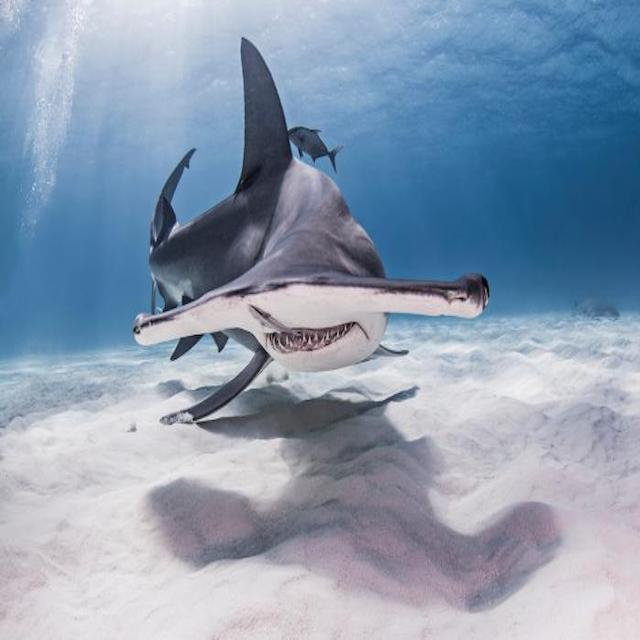hammerhead: (106, 207, 499, 390)
